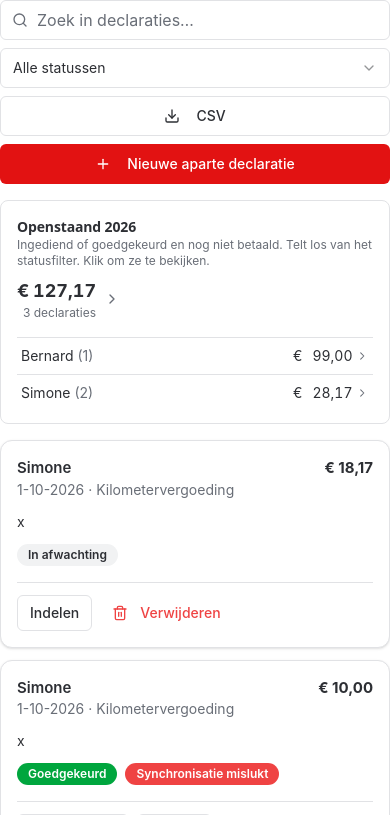
InternalDeclarationsView open totaal › totaal klikken toont alle open records, zonder concept/afgewezen/betaald/ander jaar, ook met zoekfilter
This screenshot has width=390, height=815.
In the field with placeholder "Zoek in declaraties…": (195, 20) [0,0,389,40], type "bestaat-niet"
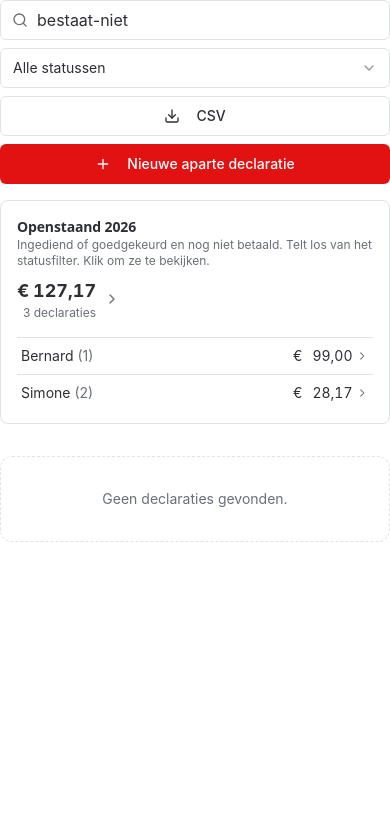
Click the button with aria-label "Bekijk openstaande declaraties": (195, 269) [1,201,389,337]
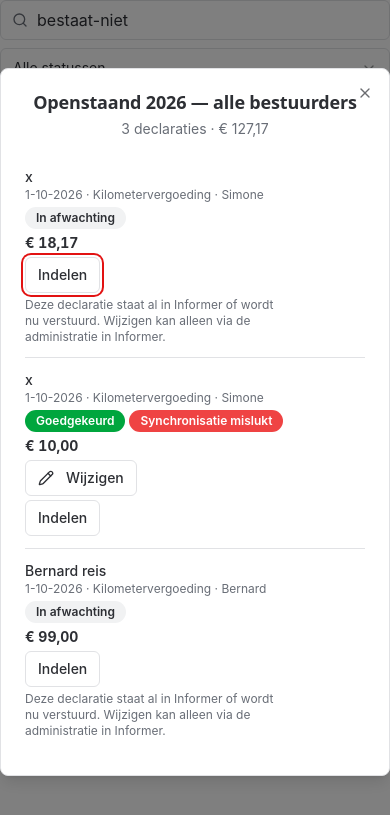
Now the text with test id "drill-summary" reads "3 declaraties · € 127,17", box [121,120,269,137]
